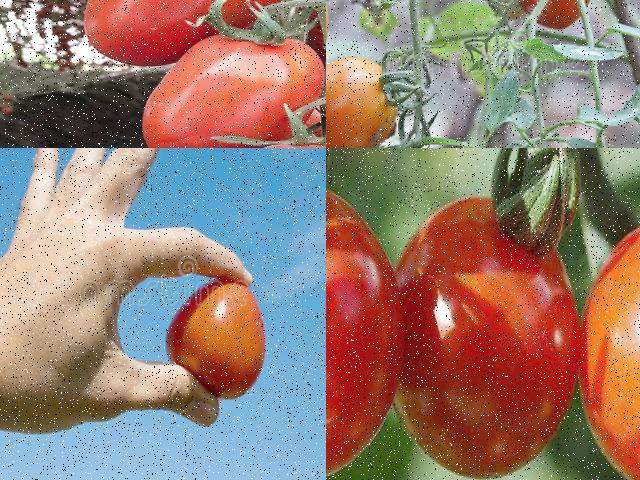tomato: (394, 189, 577, 479), (139, 33, 325, 147), (150, 275, 274, 410), (326, 226, 392, 479), (71, 0, 291, 73), (581, 213, 639, 479), (326, 59, 415, 147), (505, 0, 601, 23)
